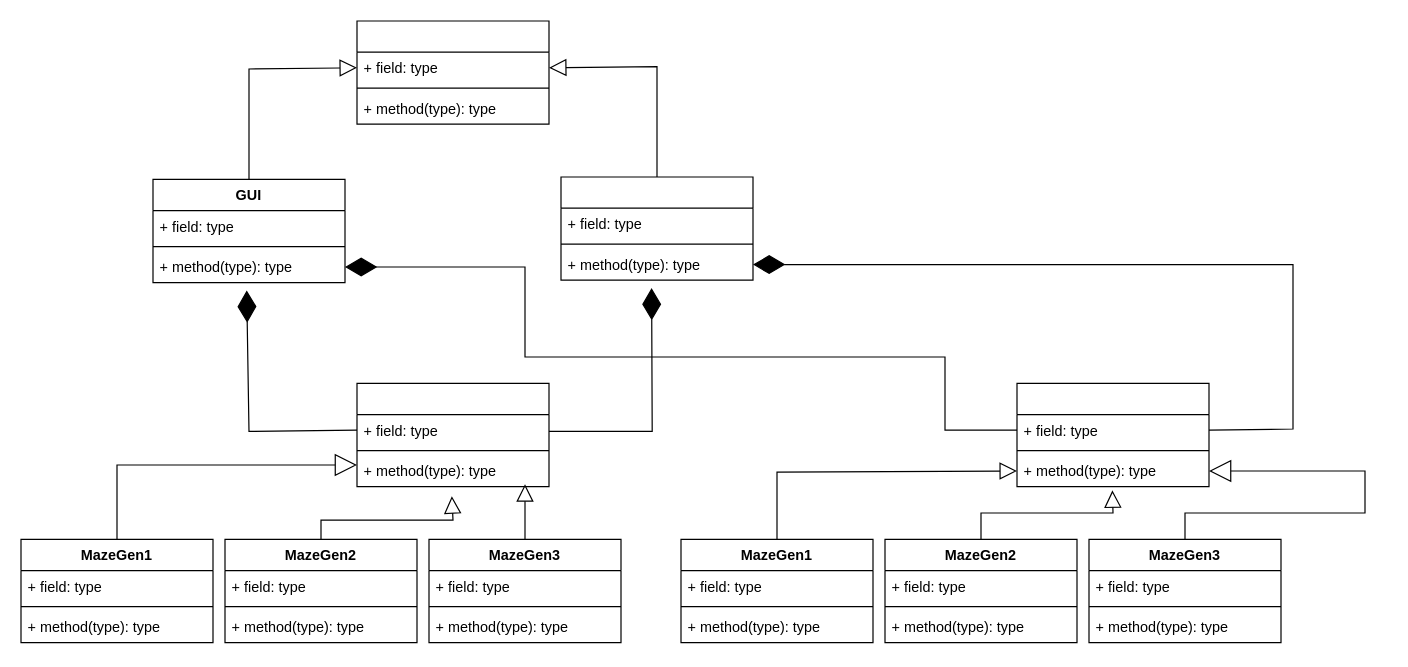
The diagram is 1408 pixels wide and 667 high, and some of its shapes have lost their labels. The shapes that lost their labels are listed below. From the top down, each one's box as (x1, y1, x2, y2) in pixels, then its label:
(356, 20, 549, 124): UI
(560, 176, 753, 280): Terminal
(356, 382, 549, 487): Maze Generator
(1016, 382, 1209, 487): Maze Solver
